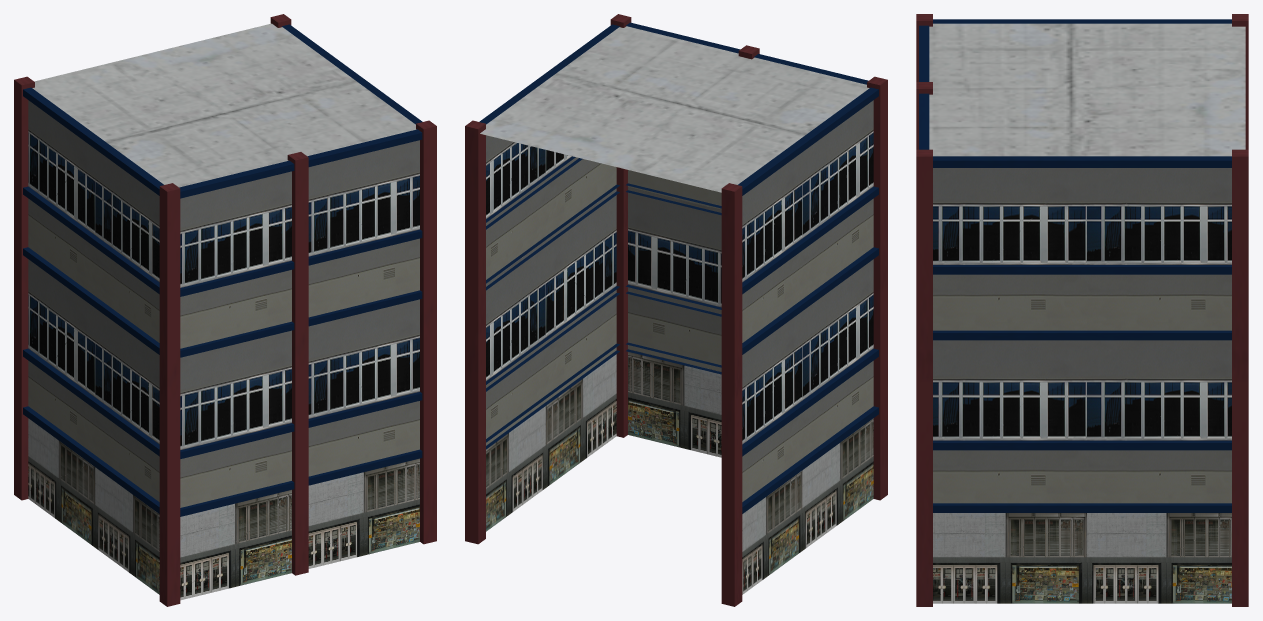
Rendered from Citybuilding13.fbx.
3 renders of one model, left to right at view 1: azimuth 30°, elevation 25°; view 2: azimuth 150°, elevation 25°; view 3: azimuth 270°, elevation 25°, orthographic. The views are drawn at different scales.
Parts seen in each view (by area): view 1: Citybuilding13; view 2: Citybuilding13; view 3: Citybuilding13.
Boxes of the visible parts, x1,y1,x2,y2 form: Citybuilding13: [14, 14, 436, 606]; Citybuilding13: [465, 14, 887, 606]; Citybuilding13: [916, 14, 1248, 606].
Size of the model in its own units: 2322 by 3416 by 2283.
